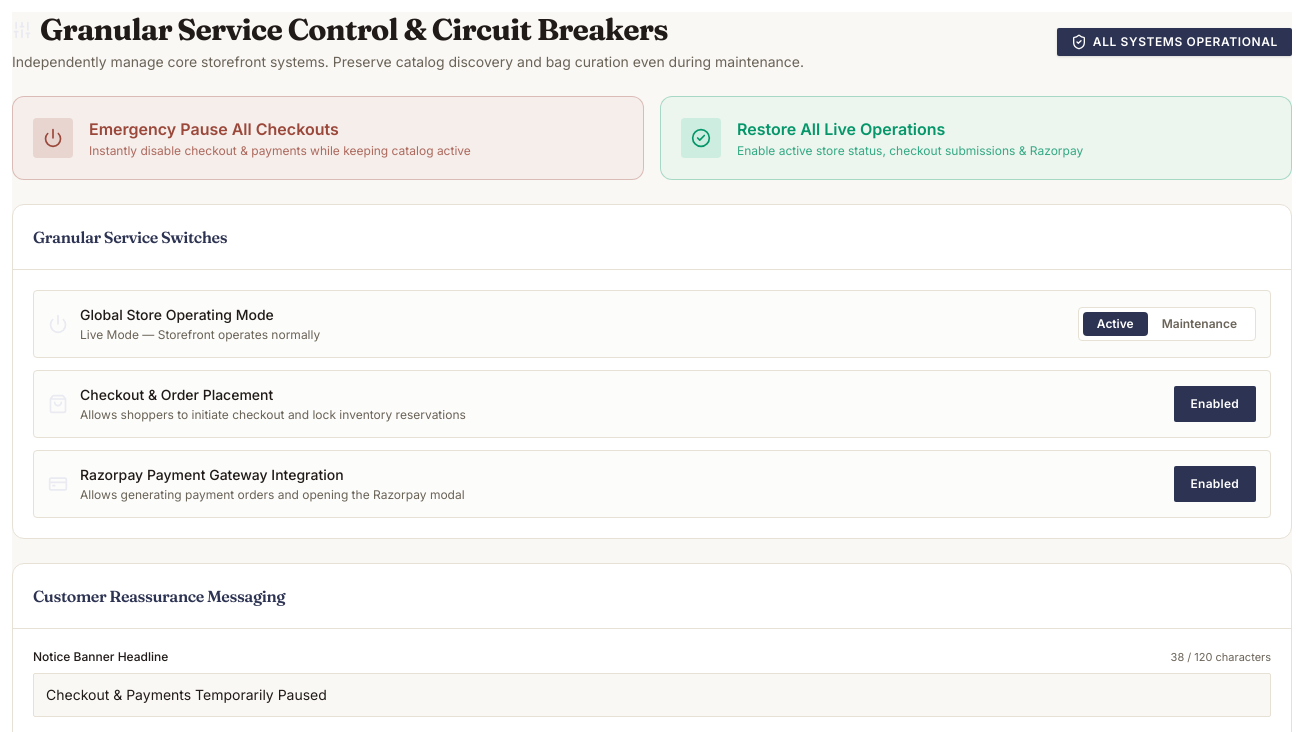
Test: ServiceControlDashboard Component › performs emergency pause on single click
Click the button "Emergency Pause All Checkouts": (328, 138) top-left (12, 96), bottom-right (644, 180)
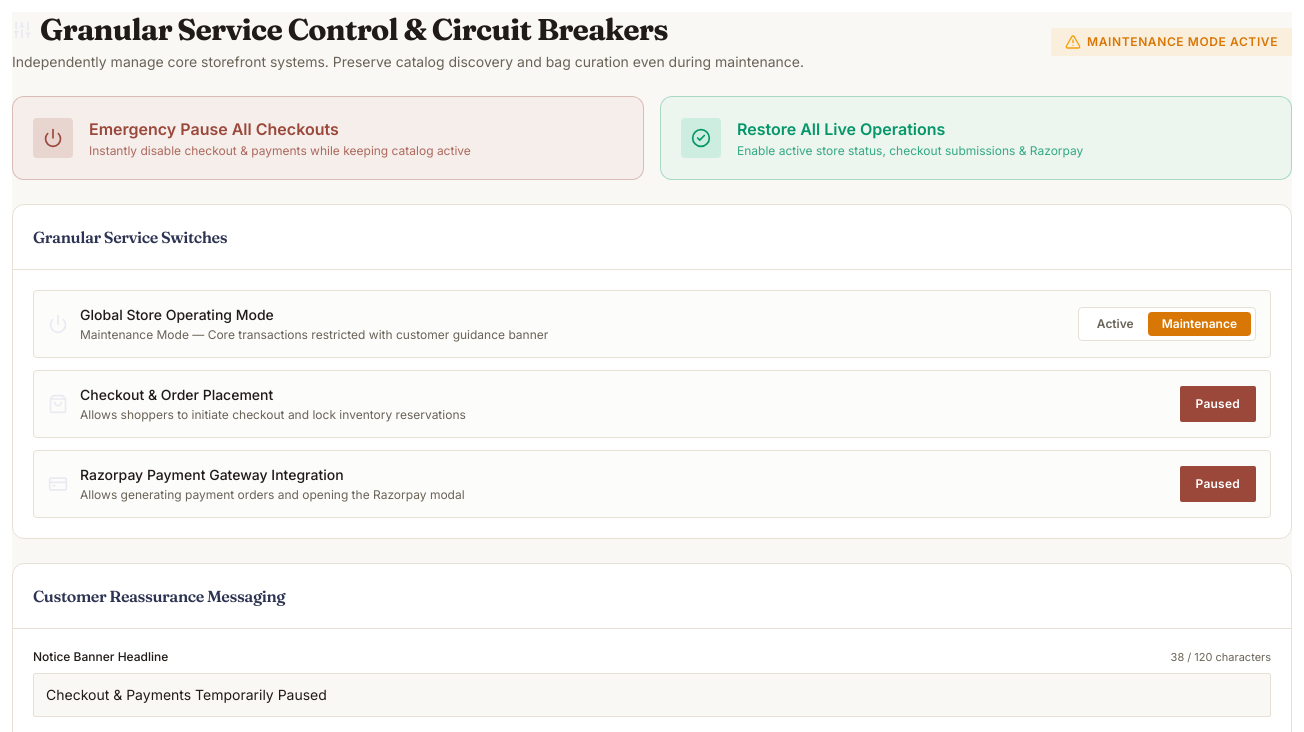
Expected: the button with aria-label "enable checkout" is shown, top-left (1180, 386), bottom-right (1256, 422)
Expected: the text "MAINTENANCE MODE ACTIVE" is shown, top-left (1087, 34), bottom-right (1278, 50)
